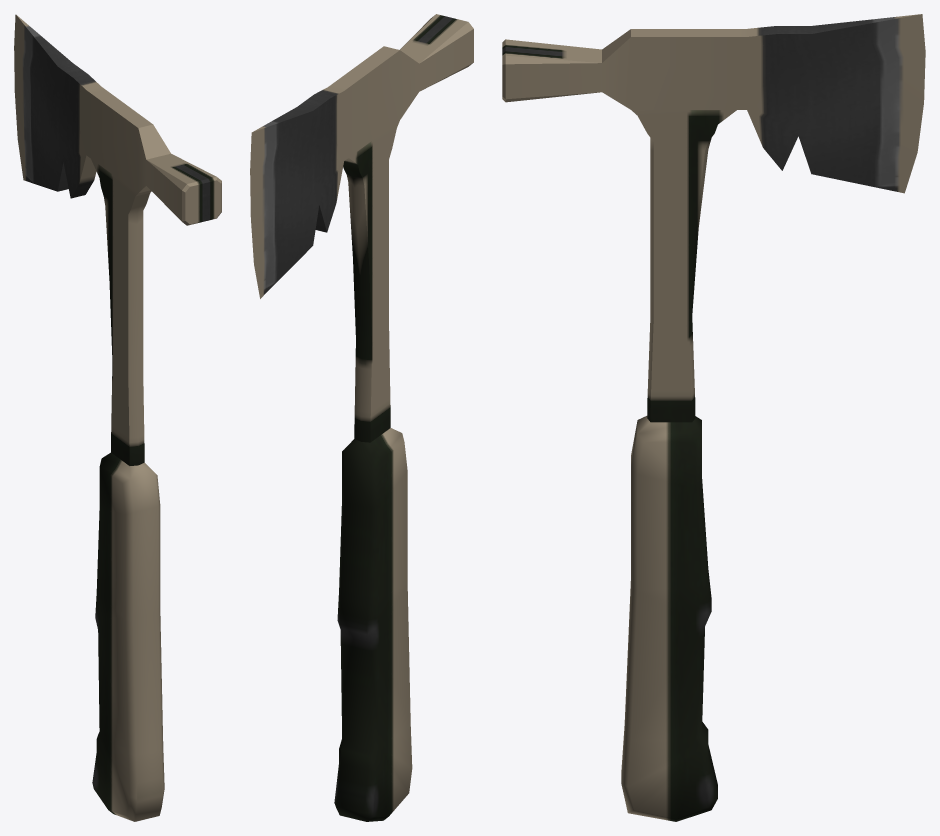
File: AxeHammer.fbx
3 views of the same model, side by side, from view 1: azimuth 30°, elevation 25°; view 2: azimuth 150°, elevation 25°; view 3: azimuth 270°, elevation 25° (orthographic). The views are drawn at different scales.
Visible parts, largest first — view 1: AxeHammer; view 2: AxeHammer; view 3: AxeHammer.
Boxes of the visible parts, x1,y1,x2,y2 form: AxeHammer: (14,14,221,821); AxeHammer: (250,14,473,821); AxeHammer: (502,14,925,821).
Size of the model in its own units: 0.016 by 0.2746 by 0.1315.
